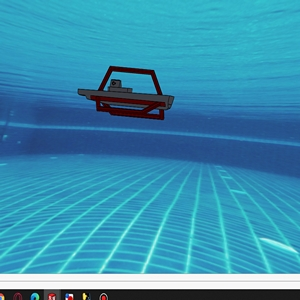submarine: (79, 64, 171, 125)
